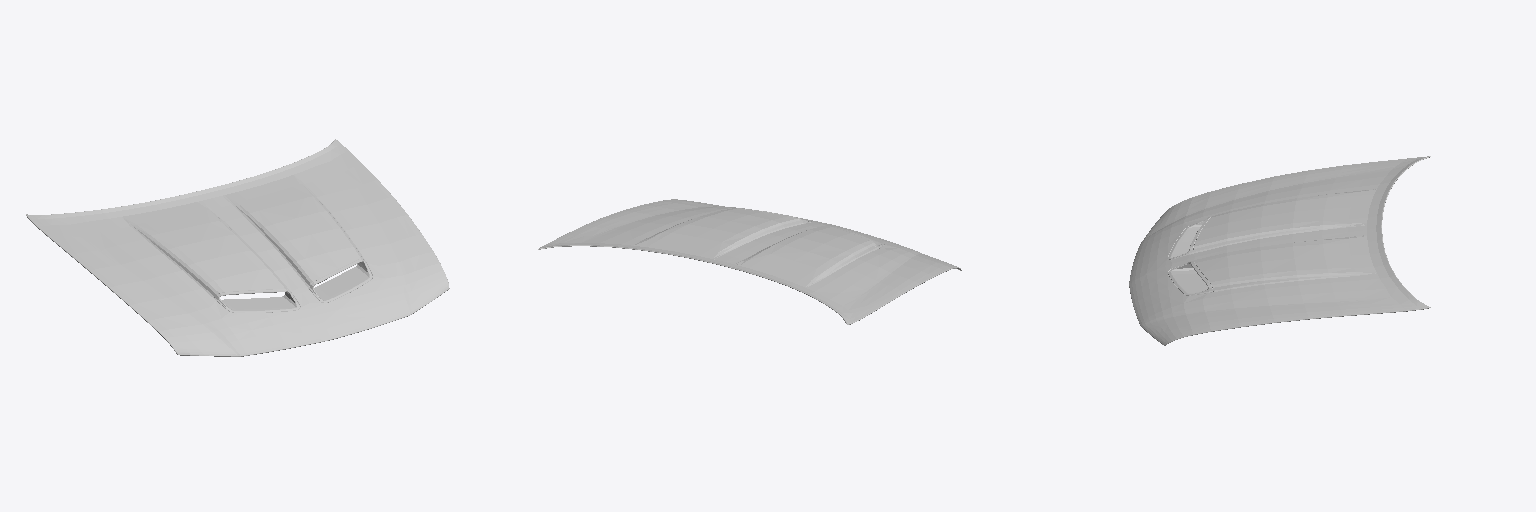
File: modelo_cofre.obj
3 views of the same model, side by side, from view 1: azimuth 30°, elevation 25°; view 2: azimuth 150°, elevation 25°; view 3: azimuth 270°, elevation 25° (orthographic).
Visible parts, largest first — view 1: cofre; view 2: cofre; view 3: cofre.
Part boxes in pixels (x1,y1,x2,y2): cofre: (26, 139, 449, 356); cofre: (538, 199, 961, 324); cofre: (1129, 156, 1430, 345).
Size of the model in its own units: 6.56 by 1.18 by 5.49.